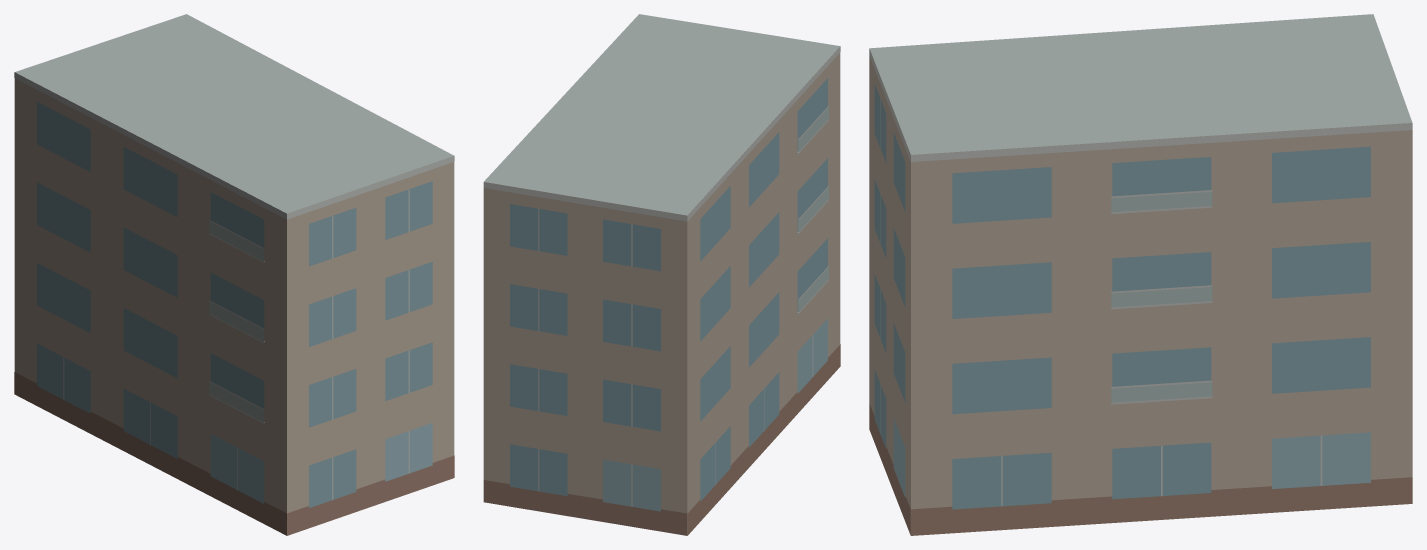
Rendered from survey-upis-33044672.glb.
3 renders of one model, left to right at view 1: azimuth 30°, elevation 25°; view 2: azimuth 150°, elevation 25°; view 3: azimuth 270°, elevation 25°, orthographic. The views are drawn at different scales.
Parts seen in each view (by area): view 1: survey-upis-33044672.tmp; view 2: survey-upis-33044672.tmp; view 3: survey-upis-33044672.tmp.
Part boxes in pixels (x1=…): survey-upis-33044672.tmp: x1=14, y1=14, x2=454, y2=535; survey-upis-33044672.tmp: x1=483, y1=14, x2=840, y2=535; survey-upis-33044672.tmp: x1=869, y1=14, x2=1412, y2=535.
Bounding box in the file's own units: 10.36 × 13.05 × 16.87.
